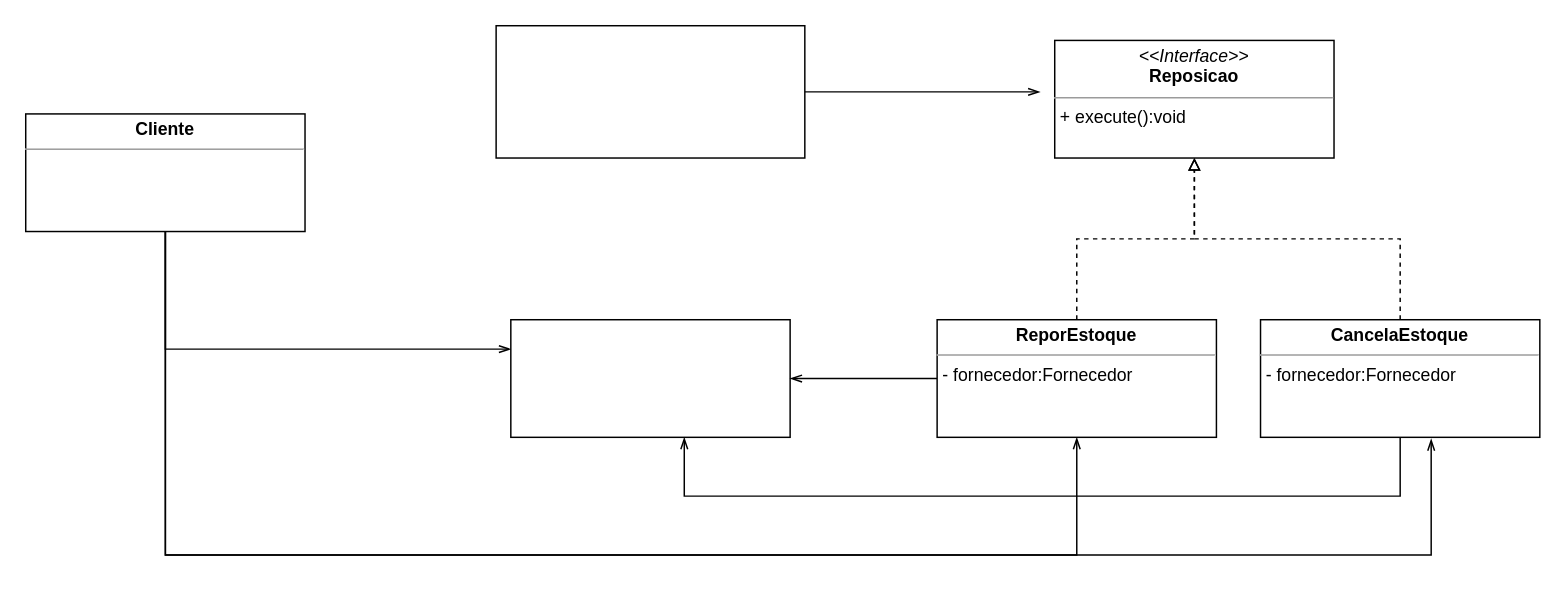
This 1566x592 diagram has some shape labels left out. Here are the shapes that lost their labels. From the top down, the centre of each, then its label:
(x=650, y=91): DepCompras - pedidos:ArrayList<Reposicao> + guardaPedido(Reposicao rep):void
(x=649, y=377): Fornecedor + solicitar(): void + cancelar(): void
